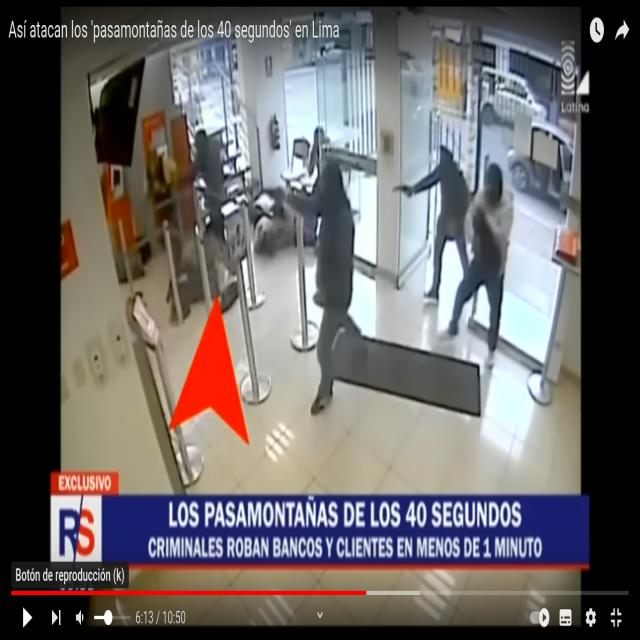FPistol: (278, 167, 294, 198), (391, 180, 414, 200)
